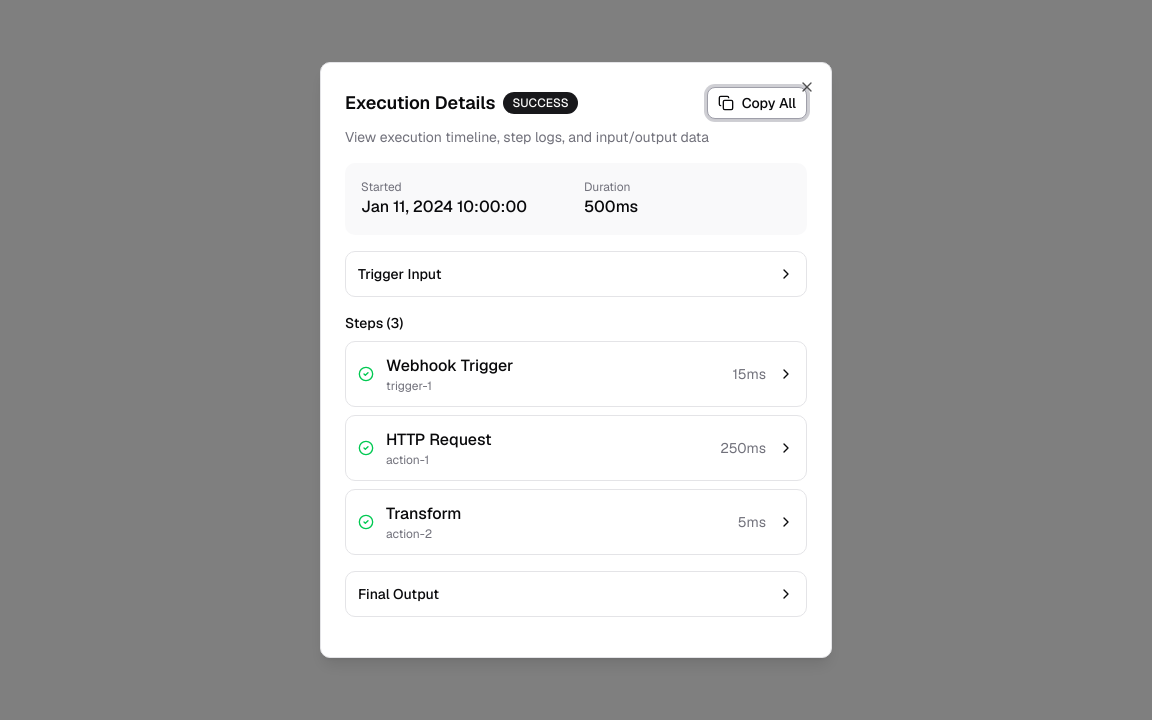
Test: ExecutionDetails › expands step to show input/output
# Click on first step to expand
Click the text "Webhook Trigger". click: (450, 366)
box: top-left (386, 354), bottom-right (513, 378)
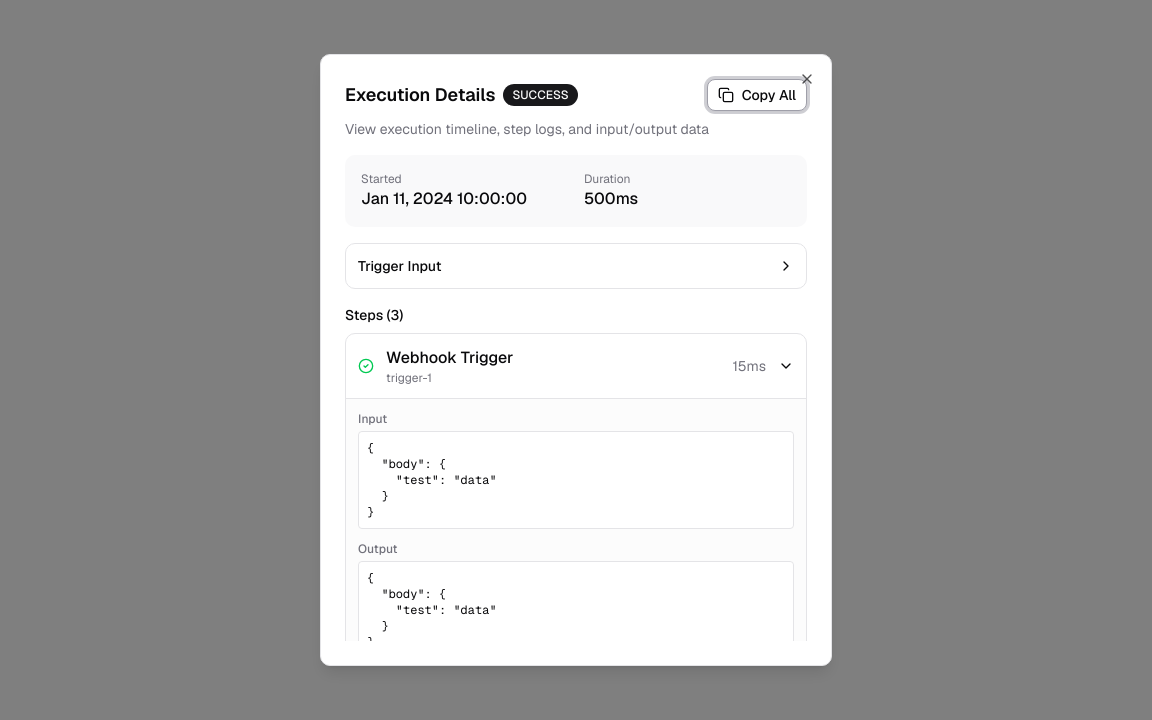
Now the text "Input" is shown, box top-left (358, 411), bottom-right (387, 427)
Now the text "Output" is shown, box top-left (358, 541), bottom-right (398, 557)
